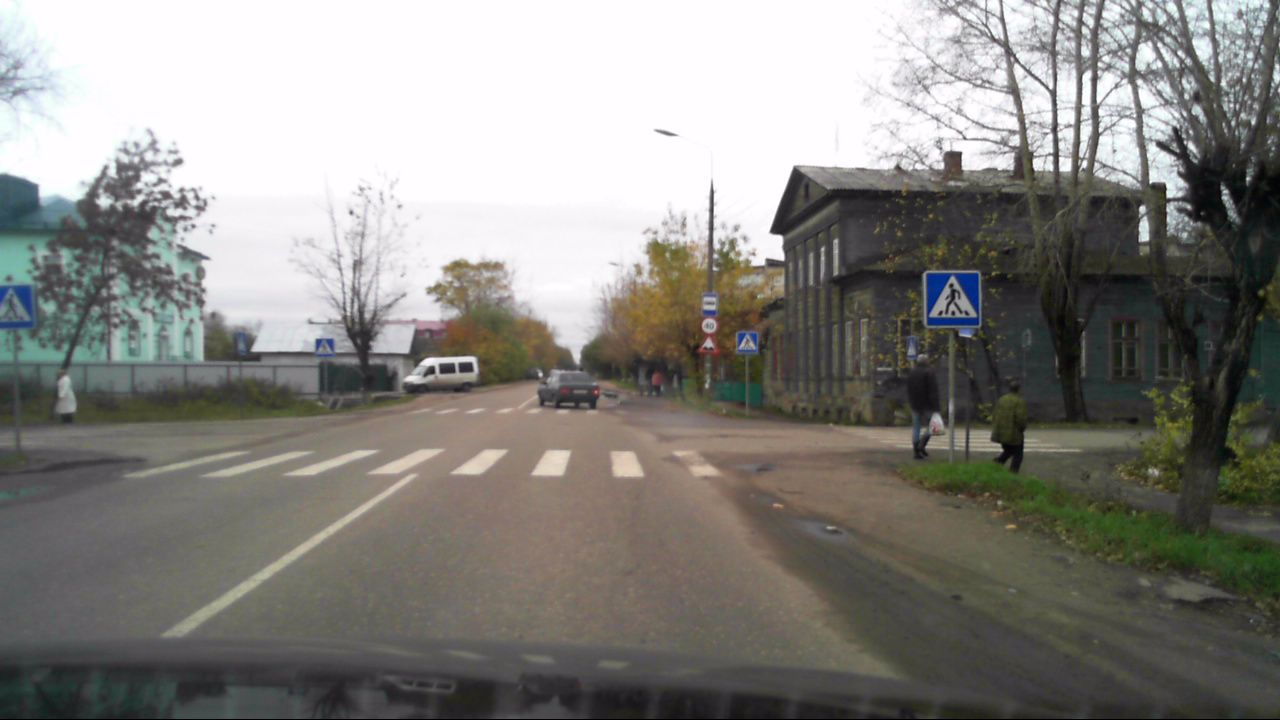speed_warning_40: (701, 317, 719, 334)
